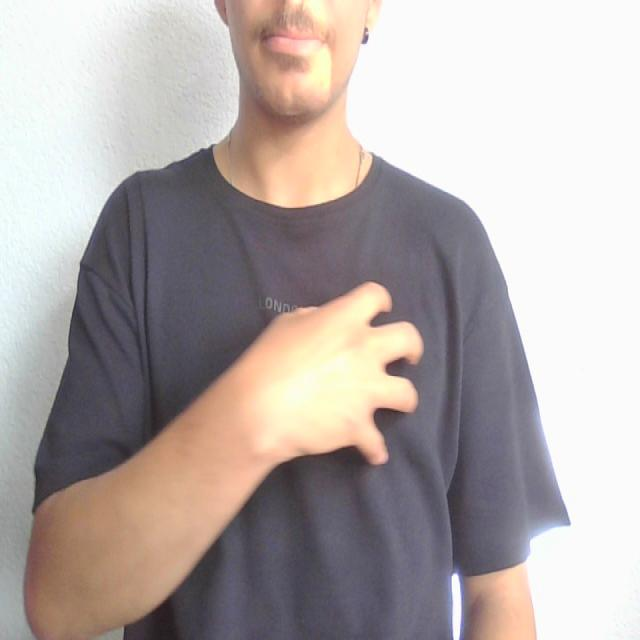Anne: (114, 264, 496, 496)
